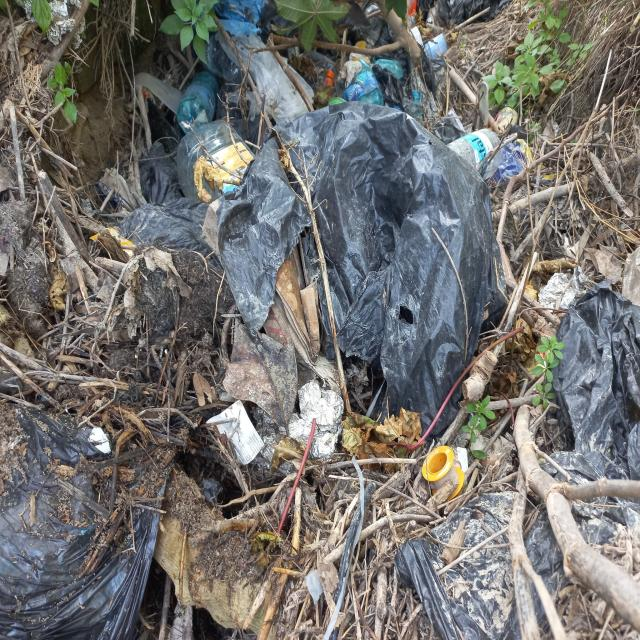Aluminium foil: (254, 381, 345, 474), (14, 0, 85, 52)
Bottle: (177, 119, 257, 202), (445, 128, 502, 181), (175, 70, 219, 133), (205, 35, 250, 85), (495, 103, 521, 138)
Other litter: (372, 45, 467, 143), (417, 0, 512, 26), (303, 51, 335, 88), (422, 32, 448, 58), (372, 58, 405, 78), (90, 424, 111, 452), (362, 0, 379, 23), (321, 70, 334, 97), (410, 25, 424, 46), (406, 0, 417, 17), (327, 97, 347, 106), (288, 46, 301, 57)
Other plastic: (333, 2, 412, 109), (218, 80, 271, 156), (493, 138, 559, 183), (422, 445, 464, 501), (132, 73, 184, 115), (212, 0, 266, 38), (341, 60, 384, 106), (88, 225, 137, 249)
Plastic bag - wrapper: (215, 101, 508, 435), (392, 279, 640, 640), (0, 400, 176, 640), (108, 100, 224, 270), (214, 33, 314, 124), (203, 399, 264, 467)
